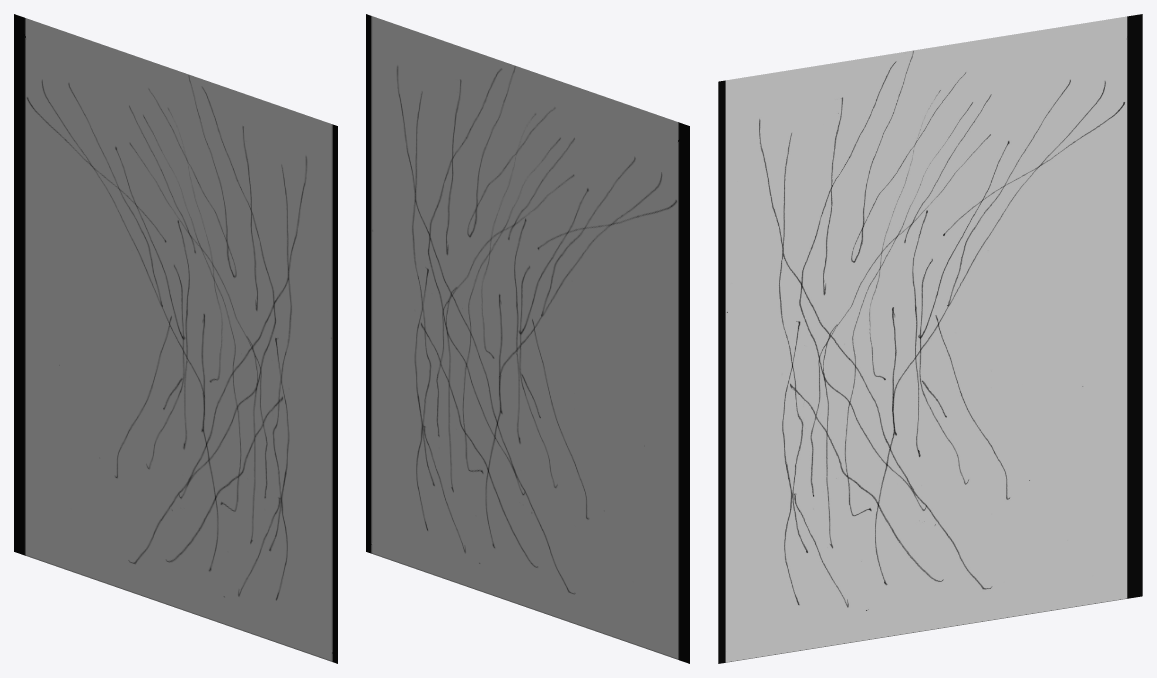
File: branches.glb
3 renders of one model, left to right at view 1: azimuth 30°, elevation 25°; view 2: azimuth 210°, elevation 25°; view 3: azimuth 270°, elevation 25°, orthographic. The views are drawn at different scales.
Visible parts, largest first — view 1: tree3; view 2: tree3; view 3: tree3.
Part boxes in pixels (x1,y1,x2,y2): tree3: (14,14,337,663); tree3: (366,14,689,663); tree3: (718,14,1142,663).
Bounding box in the file's own units: 0.3644 × 1.46 × 0.9664.
1 material, 1 textured.
